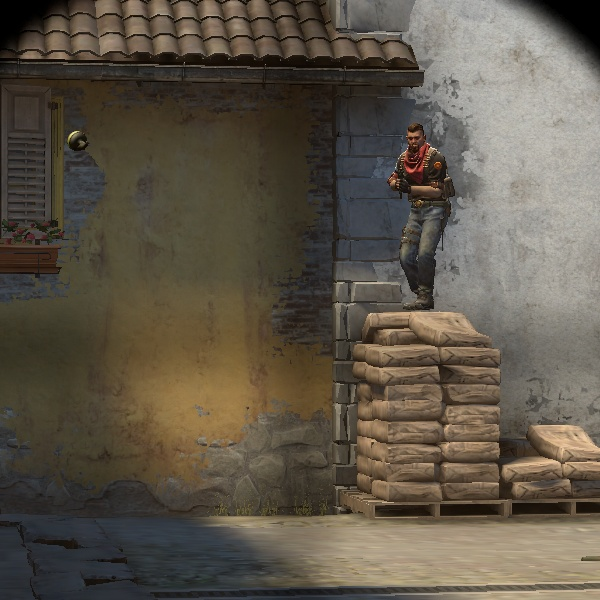t_body: (368, 121, 470, 309)
t_head: (398, 121, 433, 156)
